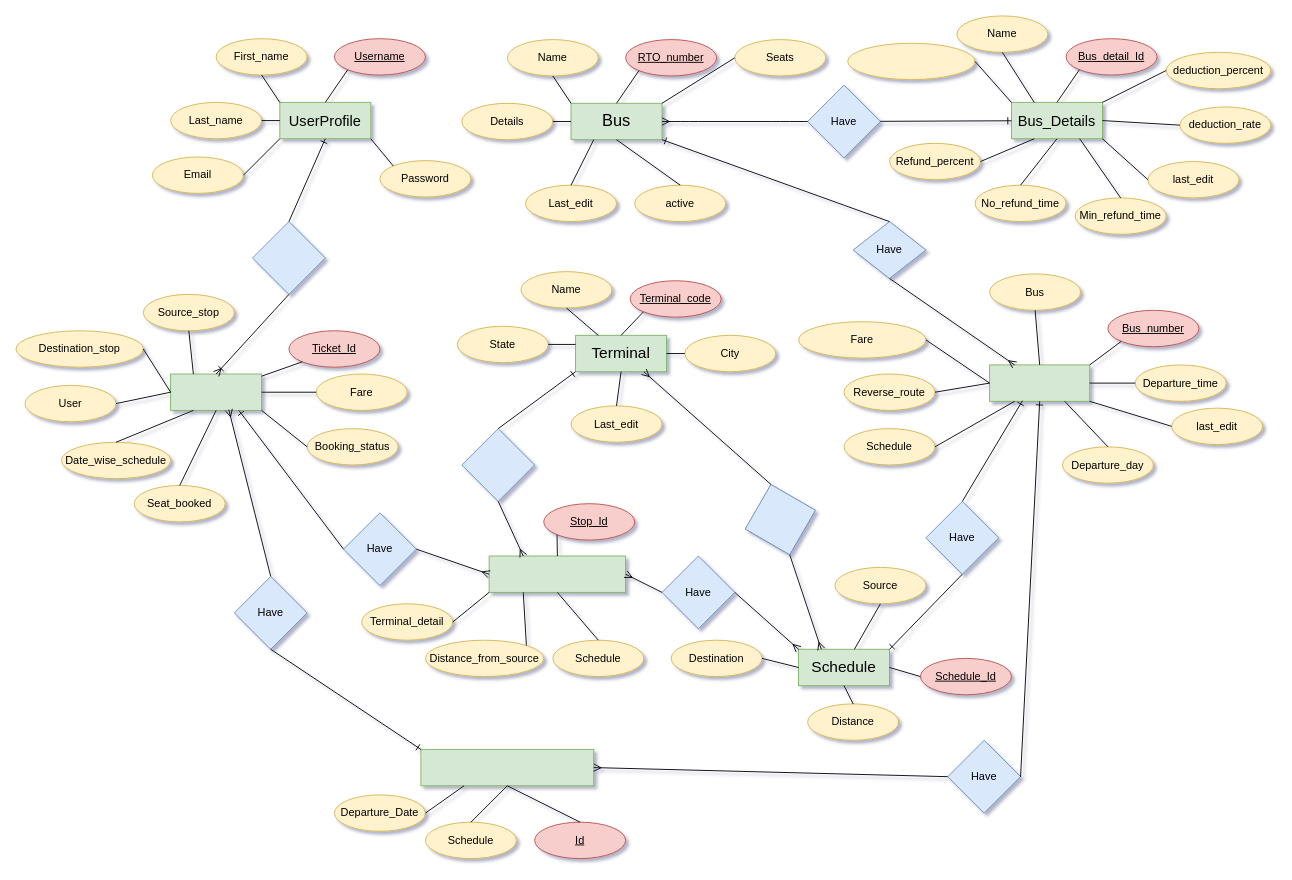
The diagram is 1292 pixels wide and 880 high, and some of its shapes have lost their labels. Here are the shapes that lost their labels. From the top down, the centre of each, then its label:
At pixel 911 61: "Accommodation_code".
At pixel 288 257: "Have ticket".
At pixel 216 391: "UserTicket".
At pixel 1039 382: "Bus_Scheduled".
At pixel 498 464: "is a".
At pixel 780 519: "Uses".
At pixel 557 573: "Intermediate_Stops".
At pixel 507 767: "Date_Wise_Bus_Schedule".
